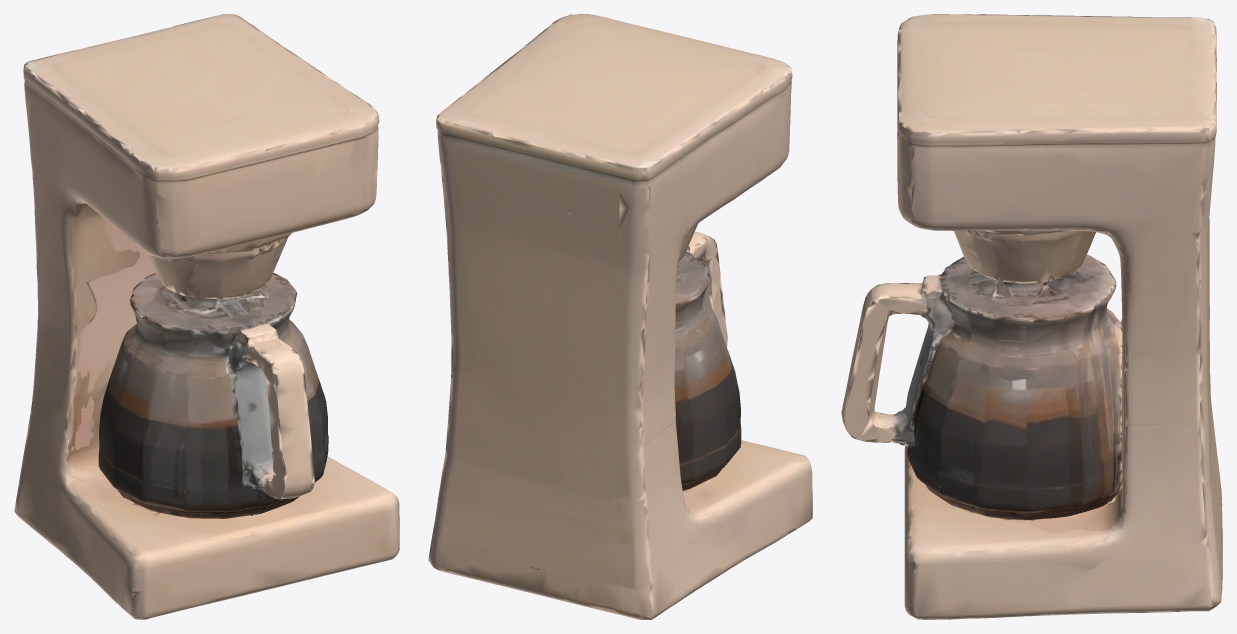
Rendered from coffeemaker.glb.
3 views of the same model, side by side, from view 1: azimuth 30°, elevation 25°; view 2: azimuth 150°, elevation 25°; view 3: azimuth 270°, elevation 25° (orthographic). The views are drawn at different scales.
Visible parts, largest first — view 1: Mesh_0.001; view 2: Mesh_0.001; view 3: Mesh_0.001.
Boxes of the visible parts, x1,y1,x2,y2 form: Mesh_0.001: (14, 14, 399, 619); Mesh_0.001: (428, 14, 812, 619); Mesh_0.001: (841, 14, 1222, 619).
Size of the model in its own units: 0.1834 by 0.3 by 0.2123.
1 material, 1 textured.
